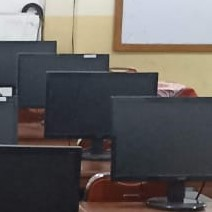monitor: (110, 96, 212, 181), (44, 71, 160, 139), (0, 145, 82, 210), (16, 53, 110, 109), (0, 40, 57, 88)
